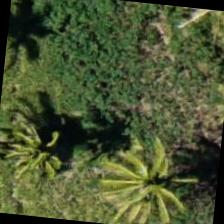Kelapa_Sawit: (100, 123, 200, 222), (0, 105, 97, 205)
